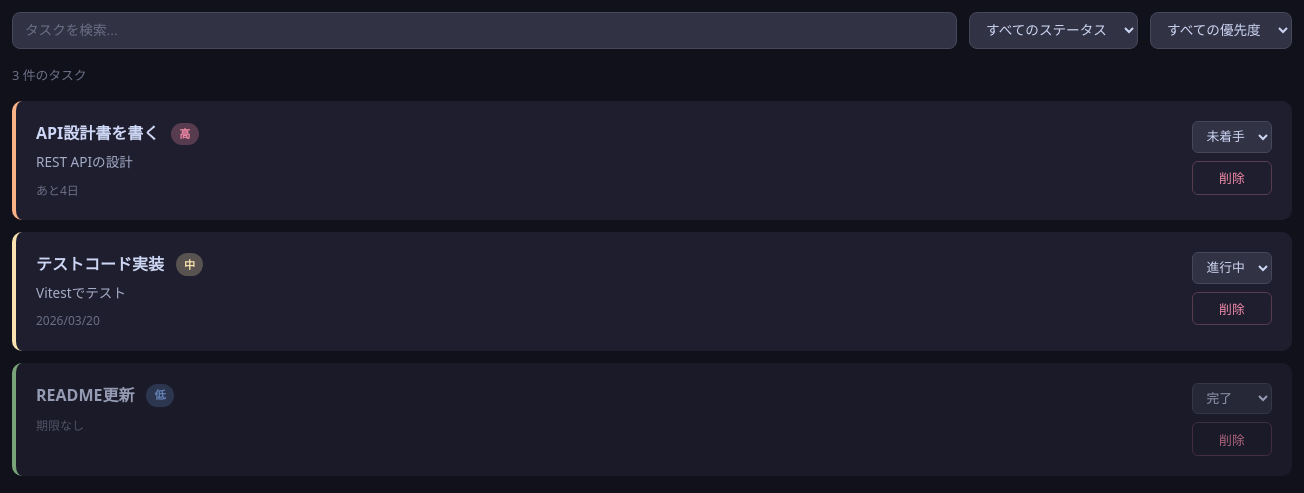
Test: TaskList.vue › 優先度フィルター › "高" で絞り込める
The width and height of the screenshot is (1304, 493).
Select "高" in the dropdown with test id "priority-filter": (1221, 30) [1150, 12, 1292, 49]
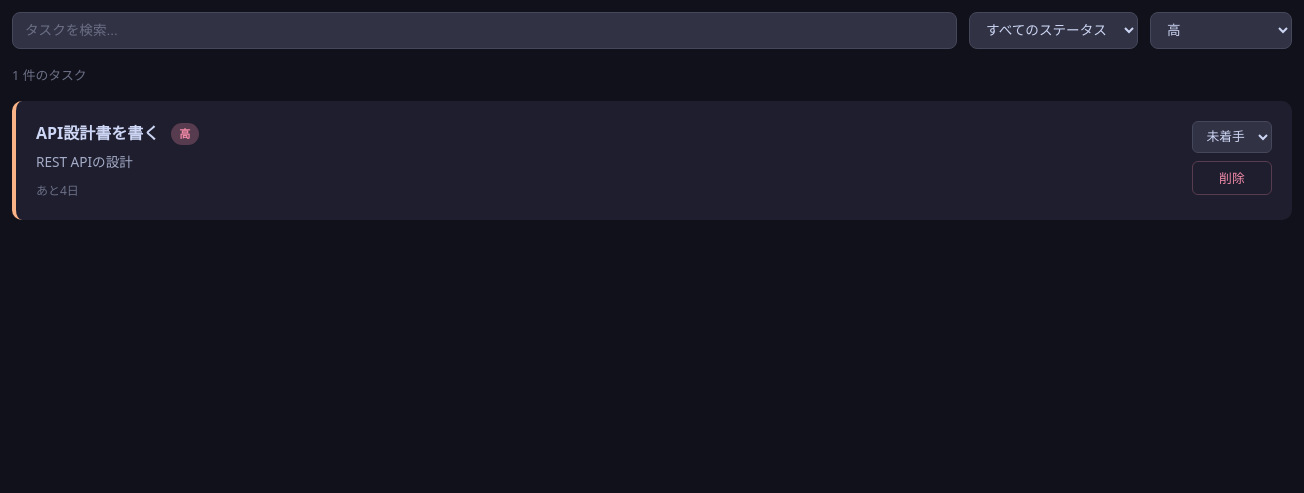
Expected: the text with test id "task-count" shows "1", [12, 66, 87, 84]
